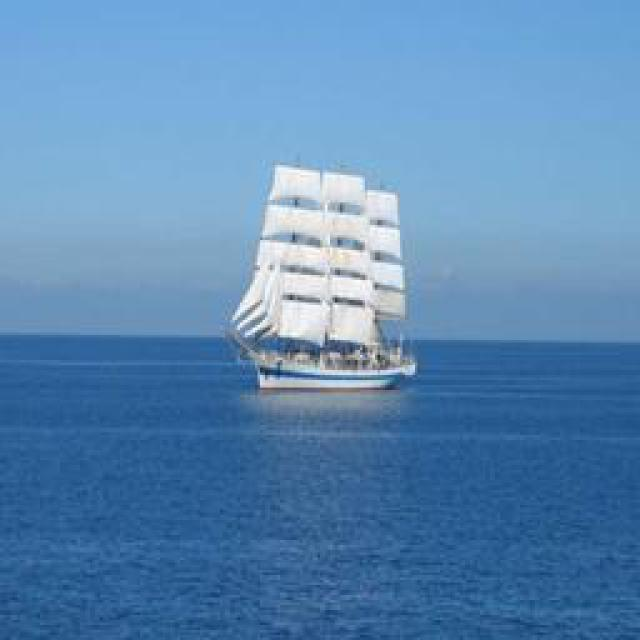Ship: (225, 158, 415, 393)
